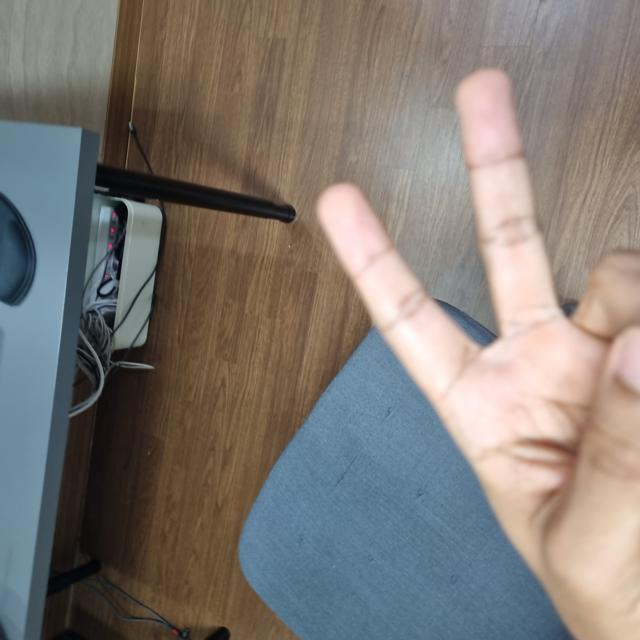Scissors: (2, 323, 570, 639)
